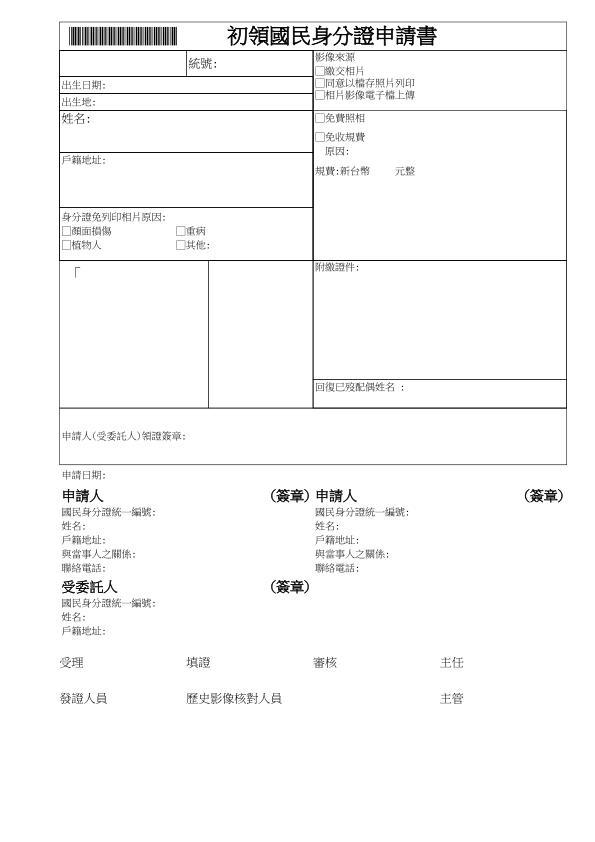table: (57, 19, 572, 469)
text: (50, 649, 482, 718), (267, 481, 412, 576), (57, 487, 184, 576), (59, 579, 164, 643), (516, 486, 569, 515), (266, 576, 315, 600), (60, 467, 111, 485)
